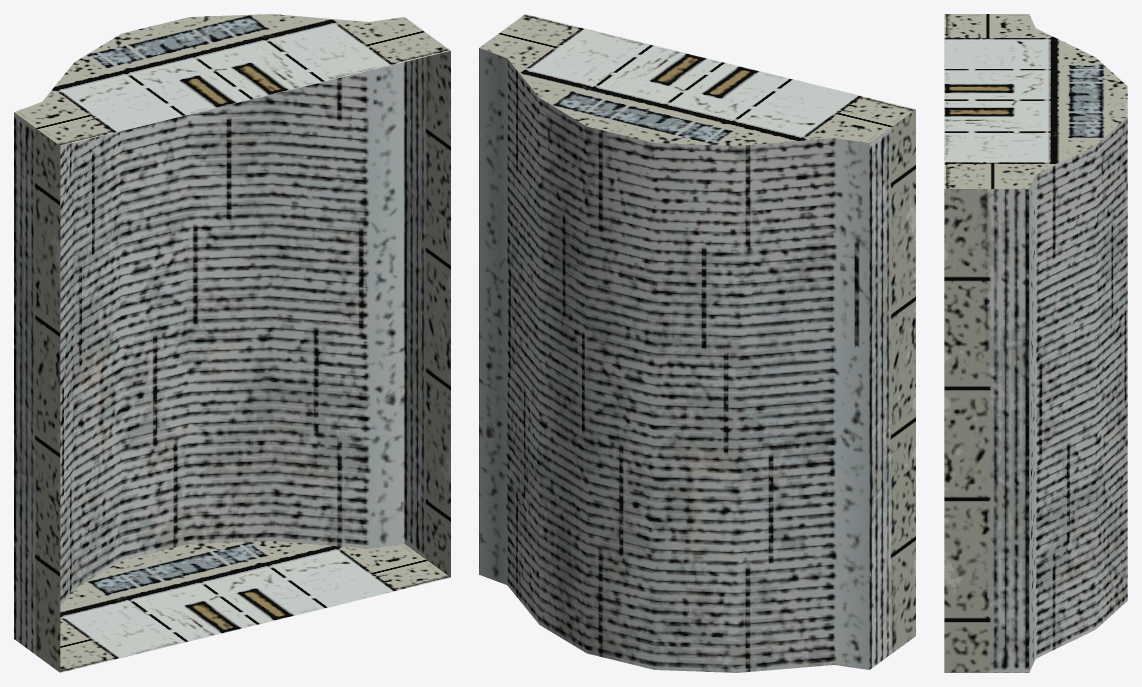
File: arc_warehouse.fbx
The picture shows the model from 3 angles, left to right: view 1: azimuth 30°, elevation 25°; view 2: azimuth 150°, elevation 25°; view 3: azimuth 270°, elevation 25°; orthographic projection. The views are drawn at different scales.
Parts seen in each view (by area): view 1: Box004; view 2: Box004; view 3: Box004.
Boxes of the visible parts, x1=… form: Box004: x1=14, y1=14, x2=450, y2=672; Box004: x1=479, y1=14, x2=915, y2=672; Box004: x1=944, y1=14, x2=1127, y2=672.
Bounding box in the file's own units: 1052 × 1356 × 466.
